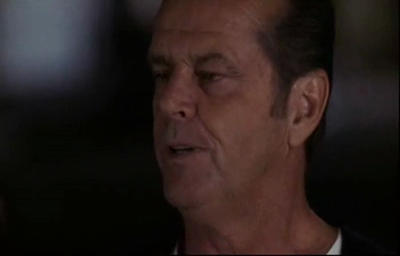cu: (1, 1, 400, 256)
face: (148, 15, 270, 208)
person: (149, 1, 391, 255)
